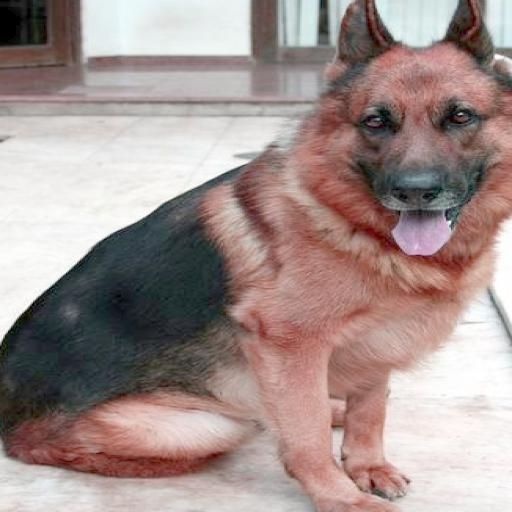dog_face: (331, 0, 512, 229)
